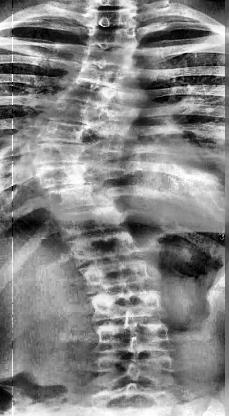Vertebrae: (78, 252, 160, 294), (92, 352, 178, 390), (51, 204, 128, 242), (41, 180, 121, 216), (88, 288, 168, 324), (66, 228, 144, 264), (92, 320, 174, 354), (53, 76, 121, 108), (33, 158, 102, 188), (73, 61, 141, 89), (42, 96, 105, 126), (31, 139, 94, 168), (80, 24, 143, 51), (82, 4, 146, 30), (34, 119, 96, 145), (80, 43, 143, 68)
